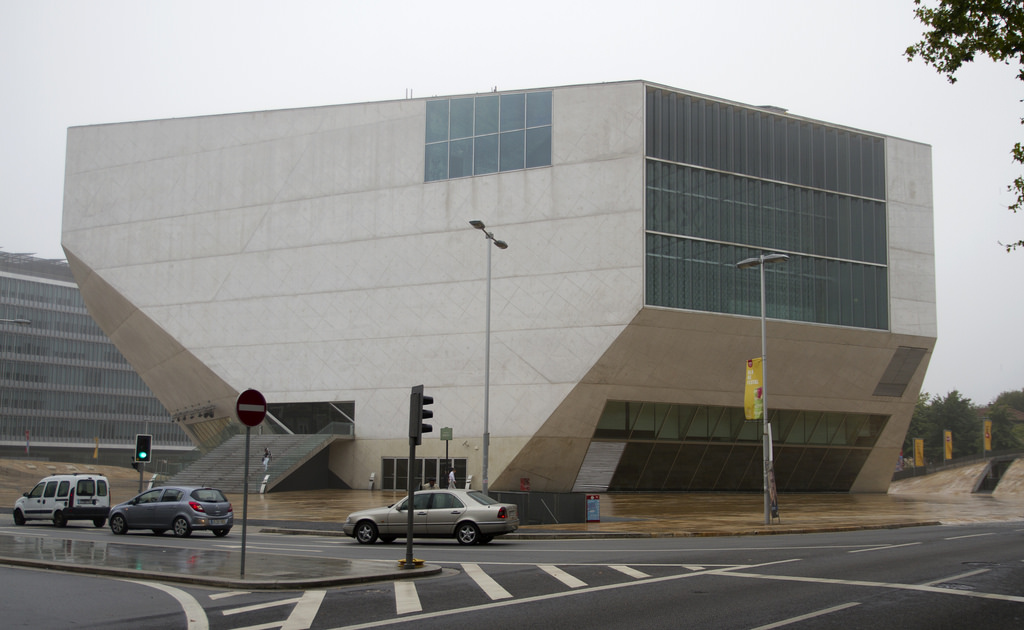musica: (59, 79, 938, 495)
